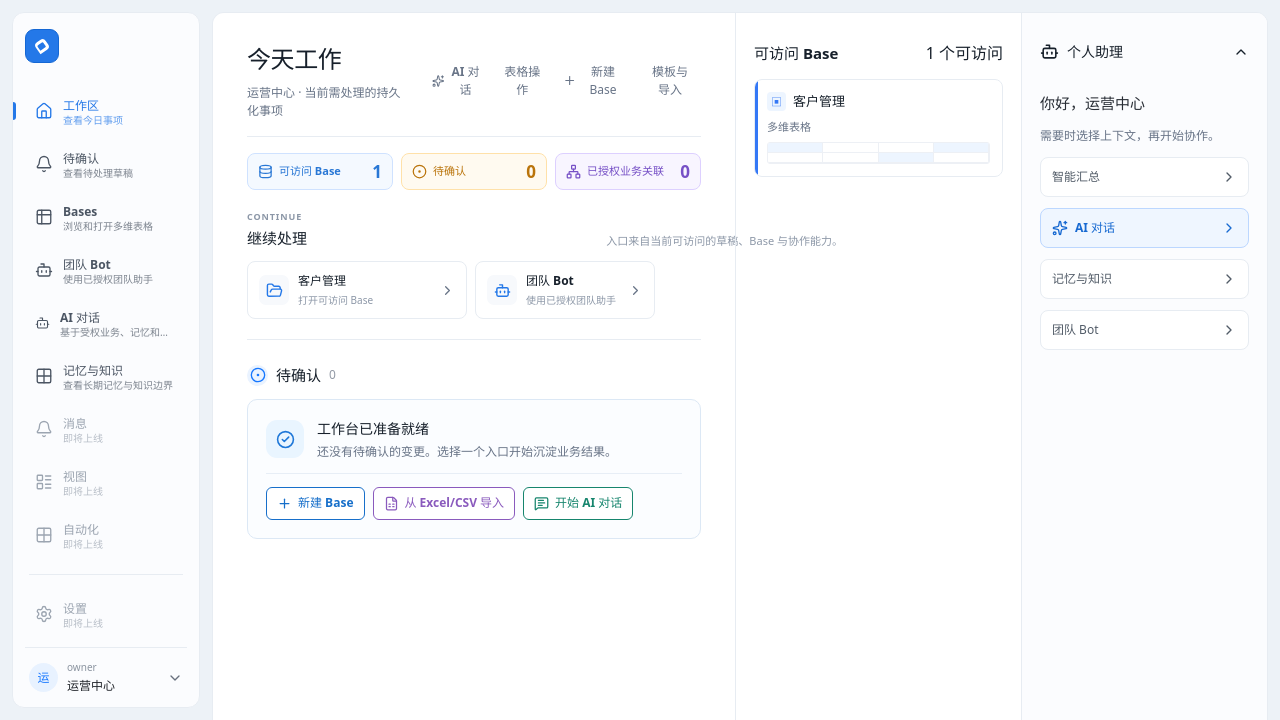
Test case: replaces the F1 builder with non-submittable loading while relation schema preload is pending
The width and height of the screenshot is (1280, 720).
Click the link "▣ 客户管理 多维表格" at (878, 128), box [754, 79, 1003, 177]
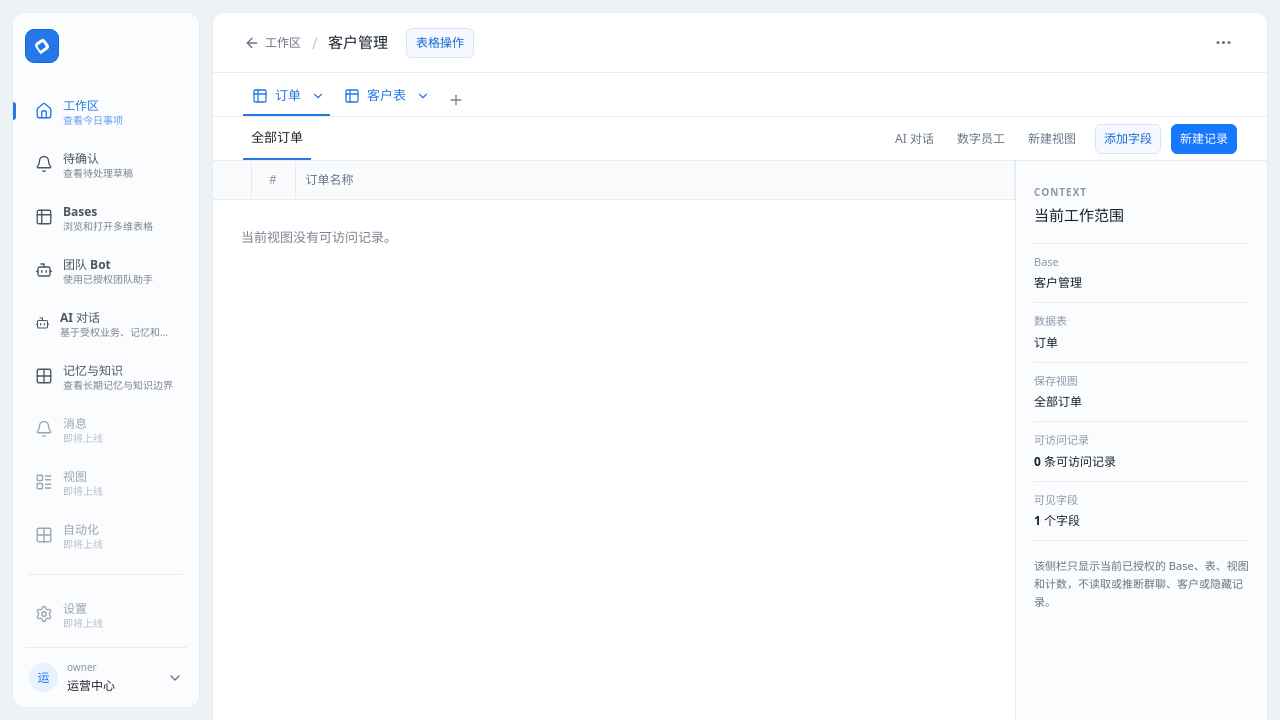
Click the button "添加字段" at (1128, 138), box [1095, 124, 1161, 154]
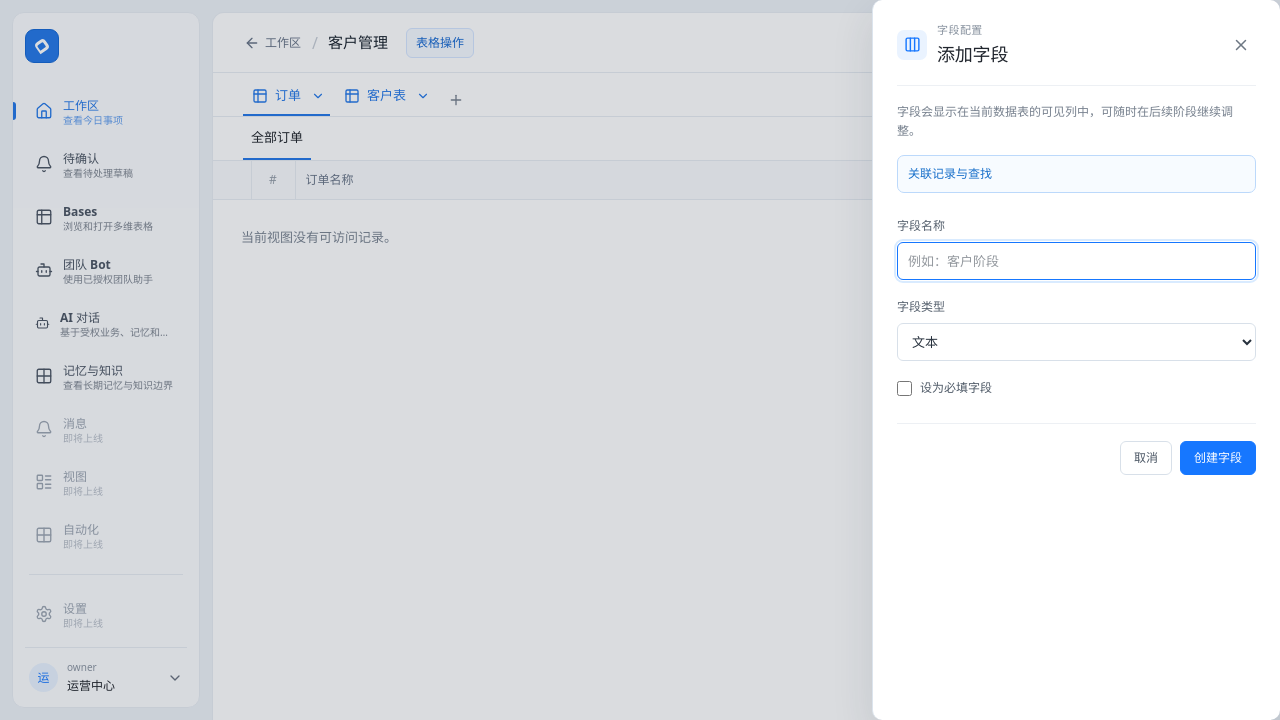
Click the button "关联记录与查找" at (950, 174), box [897, 155, 1256, 193]
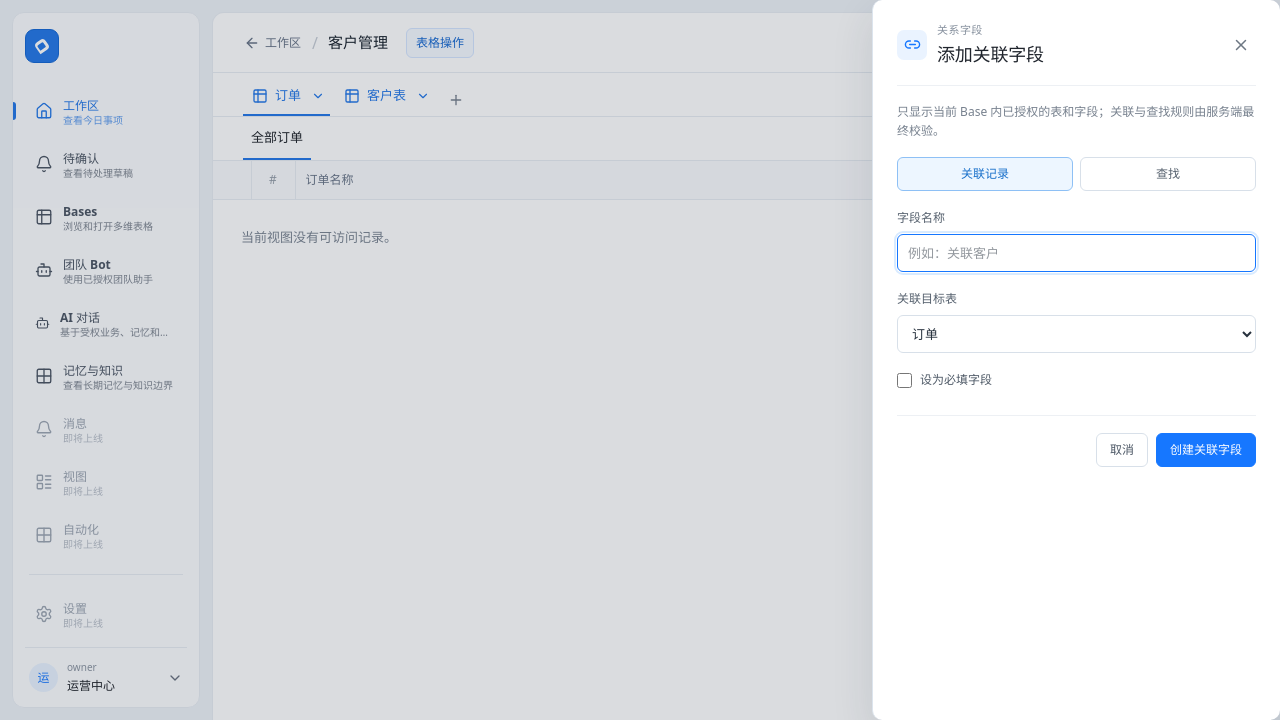
Now the button "创建字段" is gone
Now the dialog "添加关联字段" is shown, box [872, 0, 1279, 719]
